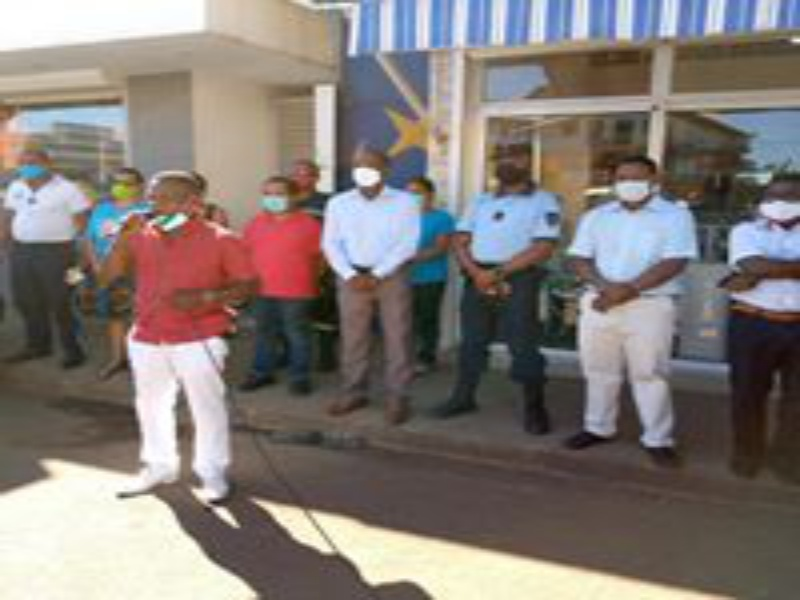ManaoArotava: (606, 155, 669, 216), (340, 146, 395, 199), (255, 169, 301, 224), (488, 140, 537, 191)
